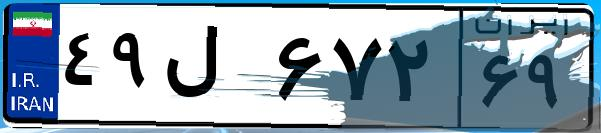2: (385, 28, 445, 110)
4: (57, 26, 110, 100)
6: (270, 28, 330, 110), (475, 38, 525, 113)
7: (330, 28, 385, 110)
9: (525, 38, 570, 115), (110, 28, 158, 98)
ل: (158, 20, 270, 120)
